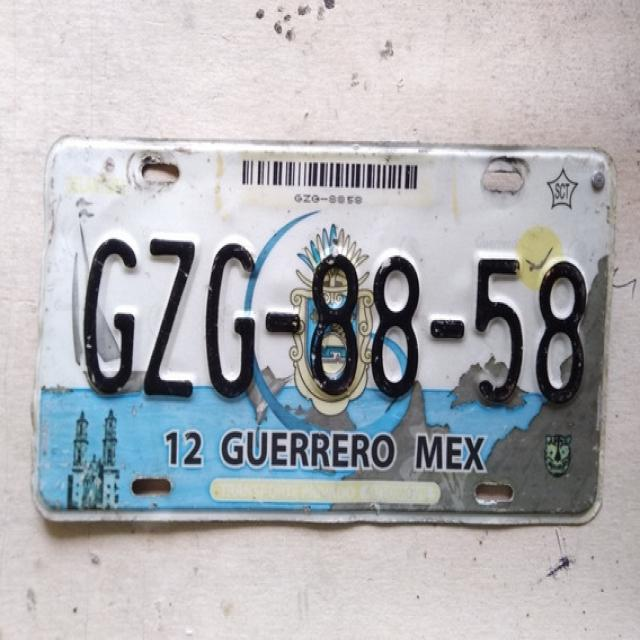placa: (44, 218, 595, 422)
